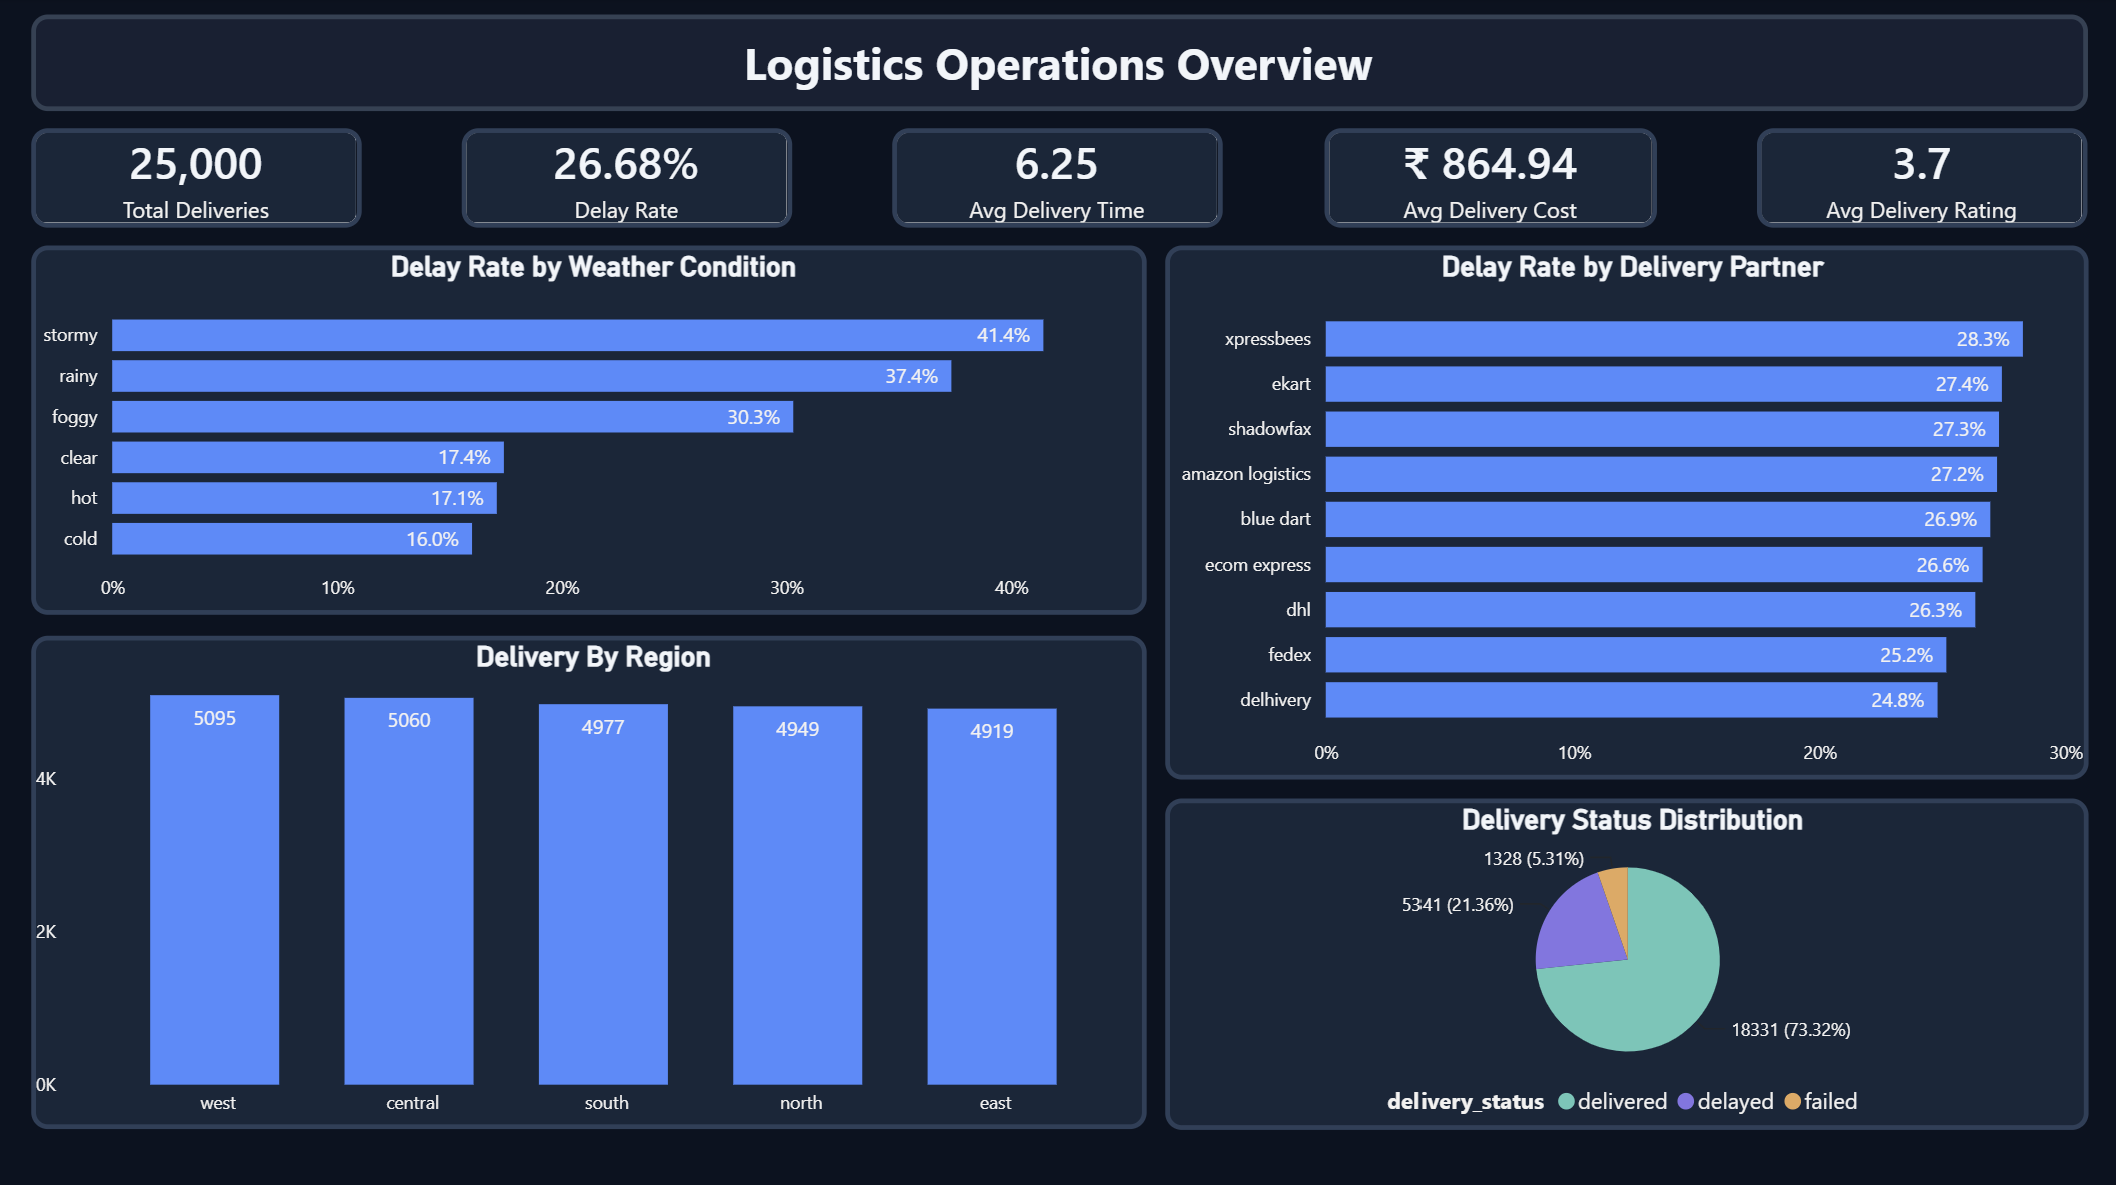

What the dashboard file says about the page in this screenshot:
{"tool":"powerbi","page":{"name":"Logistics Operations Overview","canvas":[1280,720],"ordinal":0},"visuals":[{"type":"textbox","box":[20.1,10.6,1239.9,58.1],"z":0},{"type":"cardVisual","fields":{"Data":["CountNonNull(delivery_logistics_clean.delivery_id)"]},"box":[20.1,79.3,199.6,60.2],"z":1000},{"type":"cardVisual","fields":{"Data":["delivery_logistics_clean.Delay Rate"]},"box":[280.1,79.3,199.6,60.2],"z":2000},{"type":"cardVisual","fields":{"Data":["delivery_logistics_clean.Average Delivery Time"]},"box":[540.2,79.3,199.6,60.2],"z":3000},{"type":"cardVisual","fields":{"Data":["delivery_logistics_clean.Avg Delivery Cost"]},"box":[800.3,79.3,199.6,60.2],"z":4000},{"type":"cardVisual","fields":{"Data":["delivery_logistics_clean.Avg Delivery Rating"]},"box":[1060.3,79.3,199.6,60.2],"z":5000},{"type":"barChart","title":"Delay Rate by Delivery Partner","fields":{"Category":["delivery_logistics_clean.delivery_partner"],"Y":["delivery_logistics_clean.Delay Rate"]},"box":[704,150.1,556.1,322.2],"z":6000},{"type":"barChart","title":"Delay Rate by Weather Condition","fields":{"Y":["delivery_logistics_clean.Delay Rate"],"Category":["delivery_logistics_clean.weather_condition"]},"box":[19.9,150.1,673.1,222.9],"z":7000},{"type":"clusteredColumnChart","title":"Delivery By Region","fields":{"Y":["CountNonNull(delivery_logistics_clean.delivery_id)"],"Category":["delivery_logistics_clean.region"]},"box":[19.9,385.1,673.1,297.9],"z":8000},{"type":"pieChart","title":"Delivery Status Distribution","fields":{"Y":["CountNonNull(delivery_logistics_clean.delivery_id)"],"Category":["delivery_logistics_clean.delivery_status"]},"box":[704,483.3,556.1,199.7],"z":9000}]}

Visuals, with their boxes in screenshot pixels (x1, y1, x2, y2), scaled from the page's 1280x720 canvas onto the 2116x1185 screenshot:
textbox: [33, 17, 2083, 113]
cardVisual - CountNonNull(delivery_logistics_clean.delivery_id): [33, 131, 363, 230]
cardVisual - delivery_logistics_clean.Delay Rate: [463, 131, 793, 230]
cardVisual - delivery_logistics_clean.Average Delivery Time: [893, 131, 1223, 230]
cardVisual - delivery_logistics_clean.Avg Delivery Cost: [1323, 131, 1653, 230]
cardVisual - delivery_logistics_clean.Avg Delivery Rating: [1753, 131, 2083, 230]
"Delay Rate by Delivery Partner" barChart: [1164, 247, 2083, 777]
"Delay Rate by Weather Condition" barChart: [33, 247, 1146, 614]
"Delivery By Region" clusteredColumnChart: [33, 634, 1146, 1124]
"Delivery Status Distribution" pieChart: [1164, 795, 2083, 1124]
